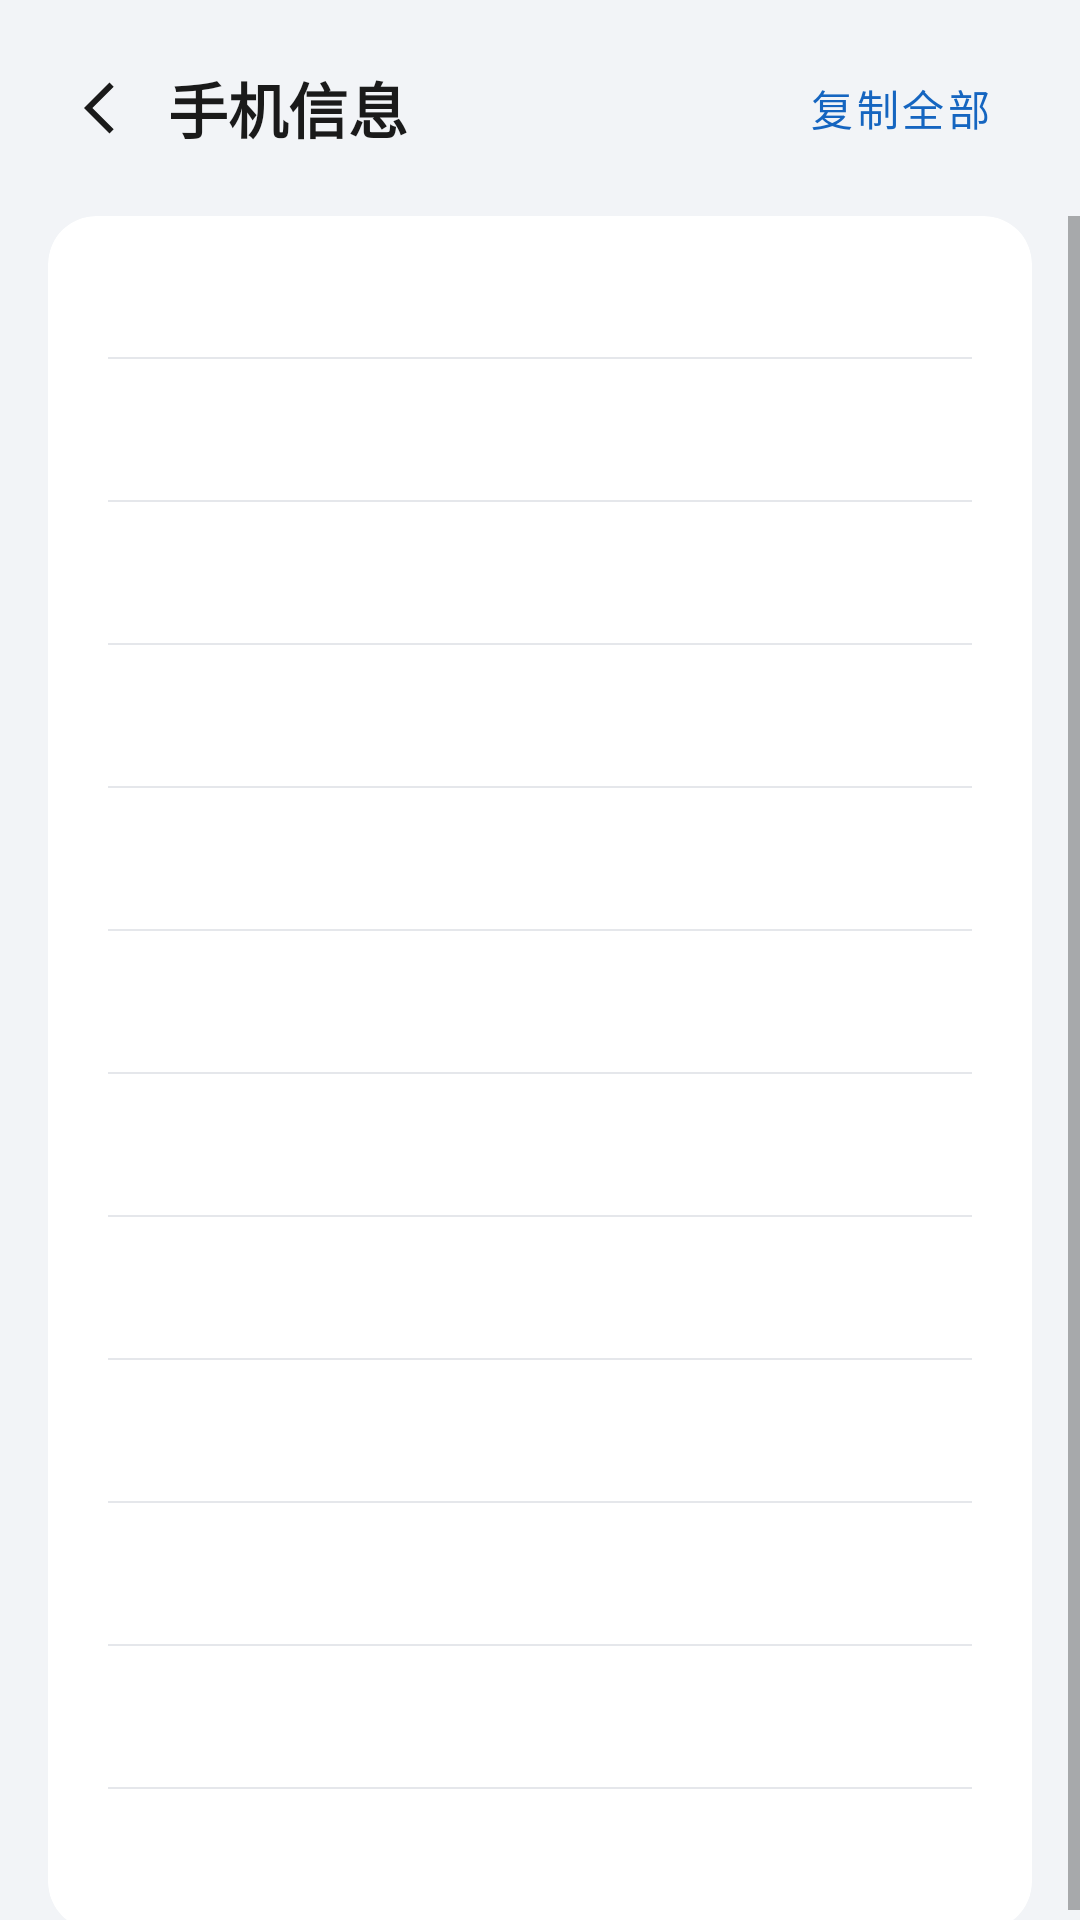

Icon click points for this 1080px x 1920px phone screenshot, format [x,y]:
返回: [99,108]
